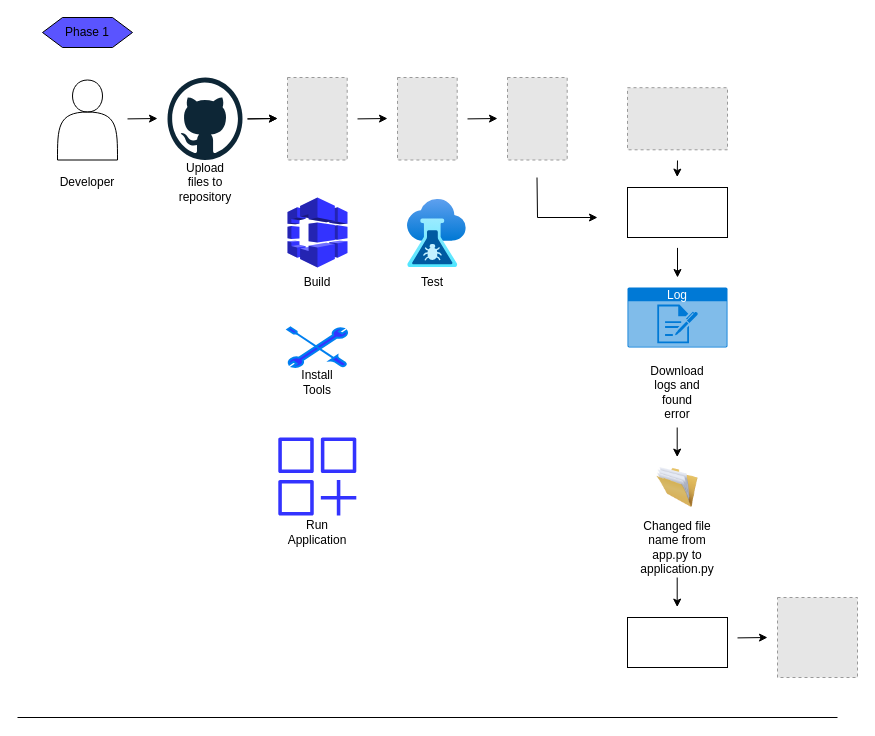
Some shapes in this 875 by 736 pixel diagram are drawn without their labels. Grey dashed boxes stand in for pictures. Here are the shapes that lost their labels. From the top down, the centre of each, then its label:
At [677,212]: "Deploy failed".
At [677,642]: "Deploy Successful".
